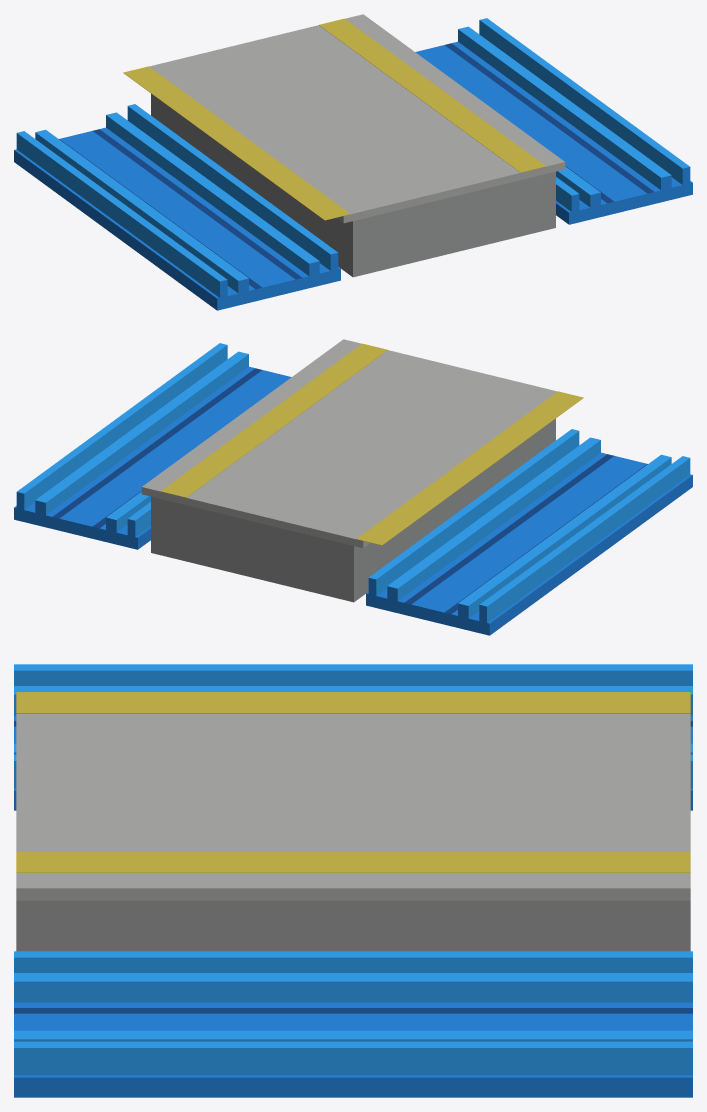
Rendered from Track_PlatformIsland.fbx.
The picture shows the model from 3 angles, top to bottom: view 1: azimuth 30°, elevation 25°; view 2: azimuth 150°, elevation 25°; view 3: azimuth 270°, elevation 25°; orthographic projection. The views are drawn at different scales.
Parts seen in each view (by area): view 1: Platform deck, Molded rail R, Molded rail L, Platform skirt, Platform edge line L, Platform edge line R; view 2: Platform deck, Molded rail R, Molded rail L, Platform skirt, Platform edge line L, Platform edge line R; view 3: Platform deck, Molded rail L, Platform skirt, Molded rail R, Platform edge line L, Platform edge line R.
Part boxes in pixels (bbox=[...]): Platform deck: bbox=[149, 14, 565, 223]; Molded rail R: bbox=[14, 104, 340, 310]; Molded rail L: bbox=[415, 18, 692, 224]; Platform skirt: bbox=[151, 93, 555, 277]; Platform edge line L: bbox=[319, 18, 546, 172]; Platform edge line R: bbox=[123, 66, 350, 220]; Platform deck: bbox=[141, 339, 557, 548]; Molded rail R: bbox=[366, 429, 692, 635]; Molded rail L: bbox=[14, 343, 291, 549]; Platform skirt: bbox=[151, 418, 555, 602]; Platform edge line L: bbox=[160, 343, 387, 497]; Platform edge line R: bbox=[356, 391, 583, 545]; Platform deck: bbox=[16, 713, 690, 900]; Molded rail L: bbox=[14, 951, 692, 1097]; Platform skirt: bbox=[16, 900, 690, 951]; Molded rail R: bbox=[14, 664, 692, 810]; Platform edge line L: bbox=[16, 851, 690, 872]; Platform edge line R: bbox=[16, 692, 690, 713].
Size of the model in its own units: 406 by 52.08 by 300.
